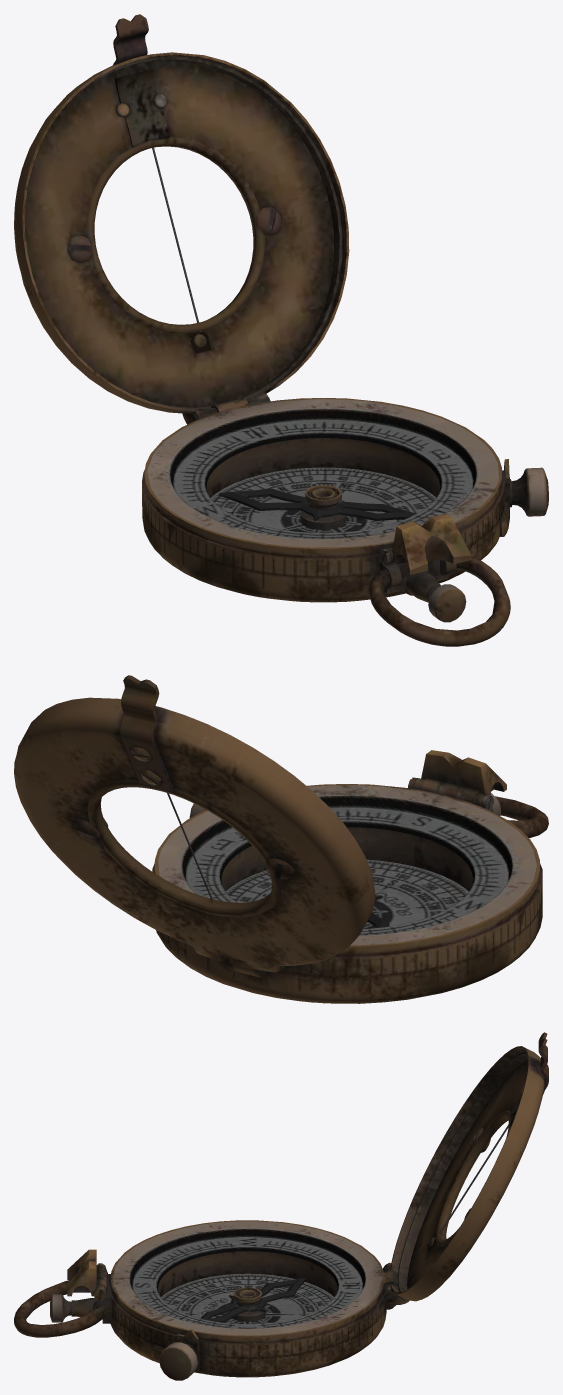
File: seadogs_compass.glb
The picture shows the model from 3 angles, top to bottom: view 1: azimuth 30°, elevation 25°; view 2: azimuth 150°, elevation 25°; view 3: azimuth 270°, elevation 25°; orthographic projection. The views are drawn at different scales.
Visible parts, largest first — view 1: seadogs_compass; view 2: seadogs_compass; view 3: seadogs_compass.
Part boxes in pixels (box(x1,y1,x2,y2)): seadogs_compass: box(14, 14, 548, 646); seadogs_compass: box(14, 675, 548, 1003); seadogs_compass: box(14, 1032, 548, 1380).
Bounding box in the file's own units: 0.0812 × 0.0866 × 0.1441.
1 material, 1 textured.
